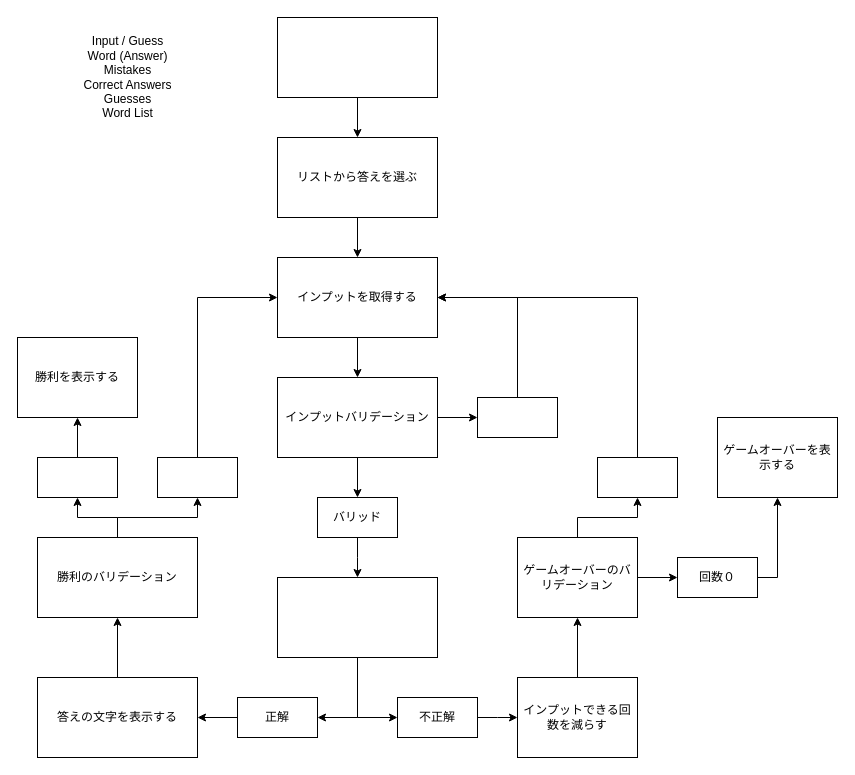
Image size: 855x775. Some labels were removed from this diagram. Each missing label, with the centre of its shape:
"インプットが答えに入っているか確認する" belongs at pixel 357 617.
"ゲーム開始 （初期化）" belongs at pixel 357 57.
"バリッドじゃない" belongs at pixel 517 417.
"全ての文字を当たった" belongs at pixel 77 477.
"全ての文字を当たってない" belongs at pixel 197 477.
"回数1以上" belongs at pixel 637 477.
